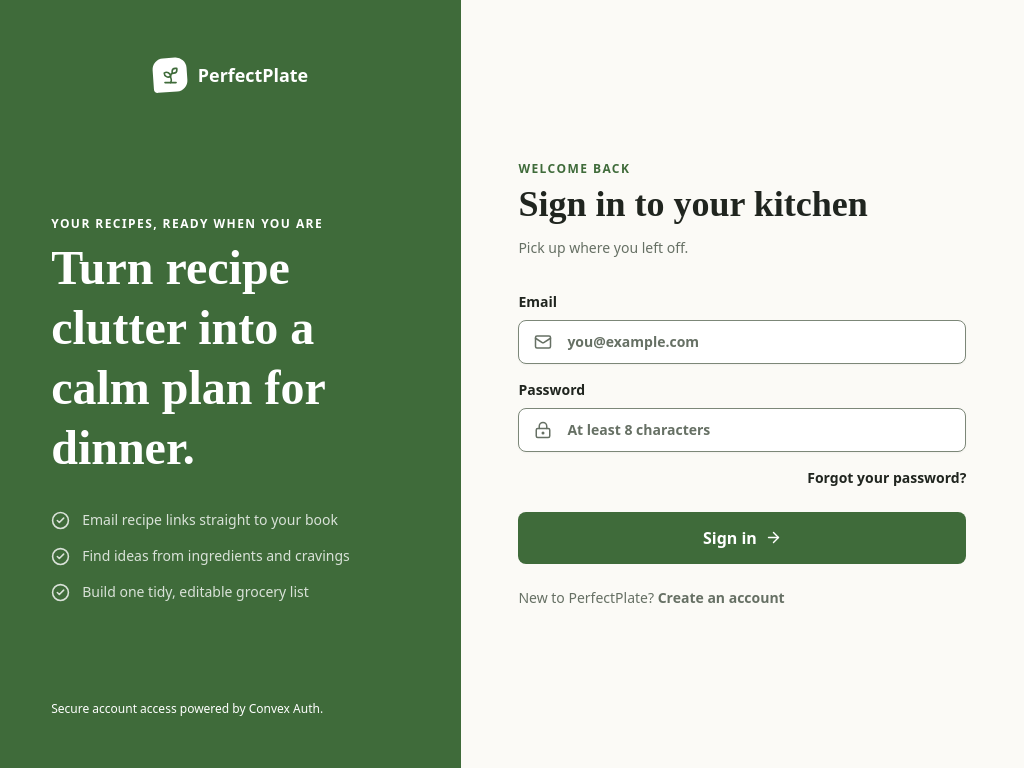
Test: AuthForm › shows a specific sign-in message for InvalidSecret
This screenshot has width=1024, height=768.
Type "cook@example.com" into the field labelled "Email" at (742, 342), box [518,320,966,364]
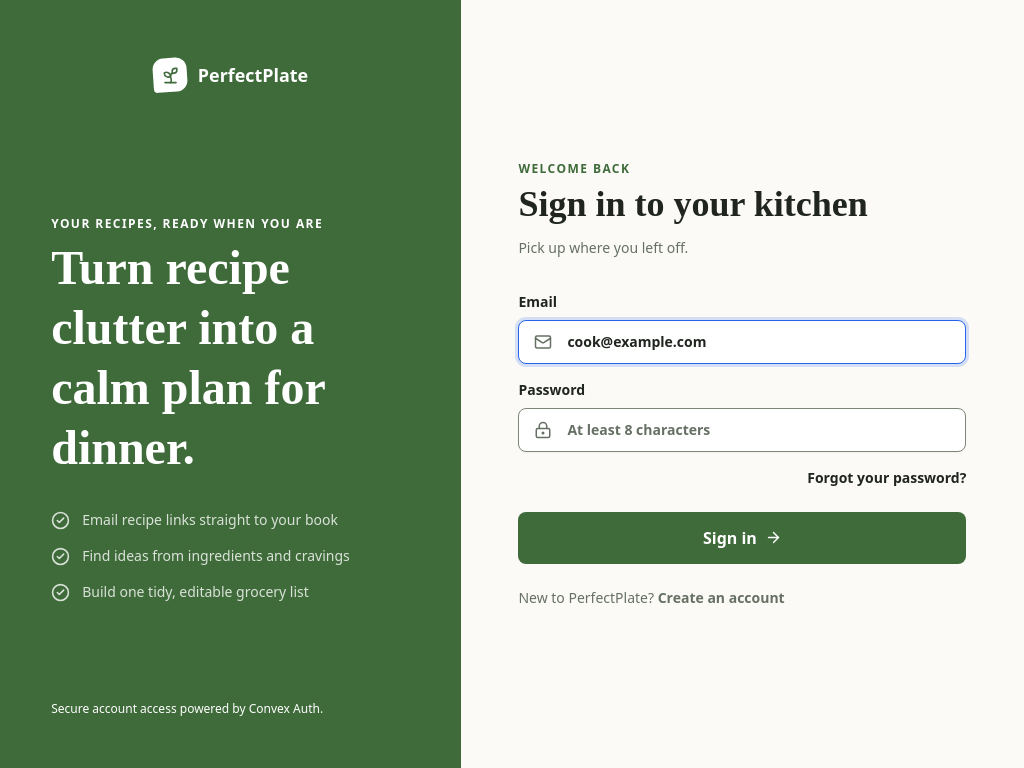
Type "password123" into the password field labelled "Password" at (742, 430), box [518,408,966,452]
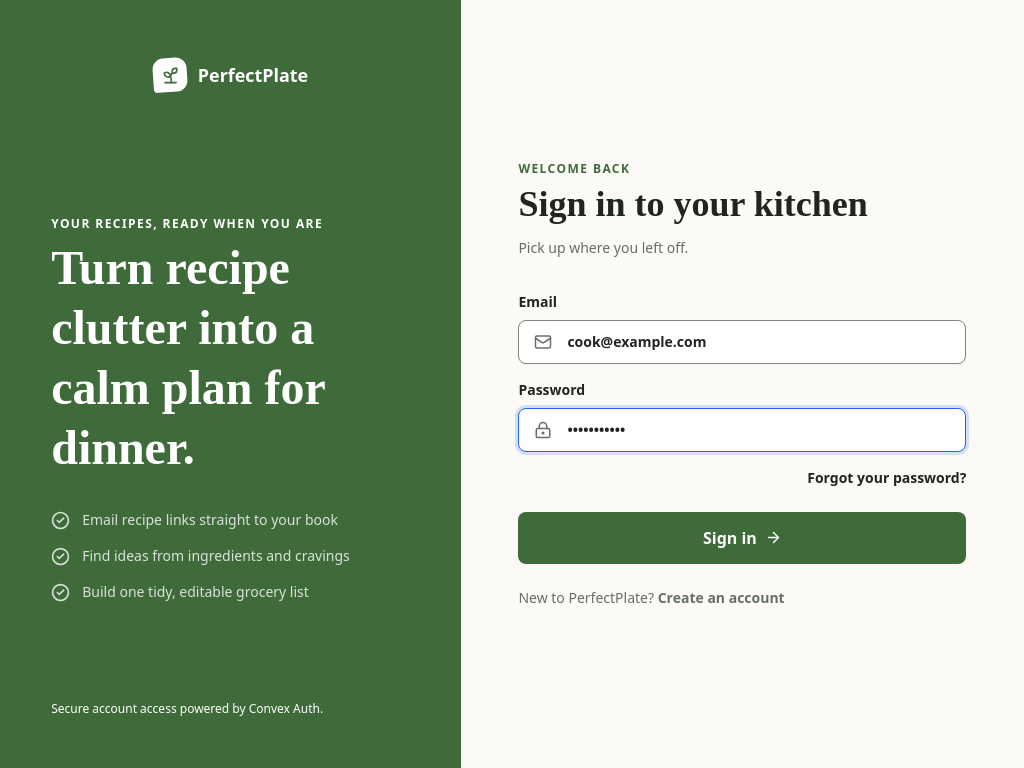
Click the button "Sign in" at (742, 538), box [518,512,966,564]
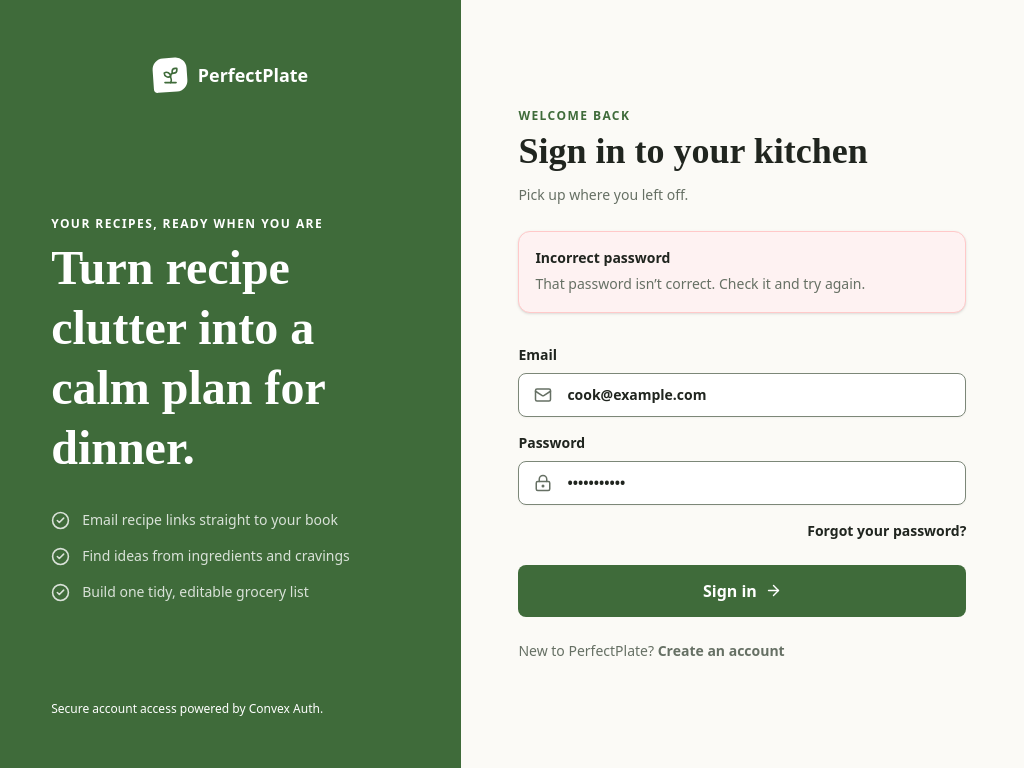
Expected: the message shows "Incorrect password", [535,248,670,267]
Expected: the message shows "That password isn’t correct. Check it and try again.", [535,274,865,293]
